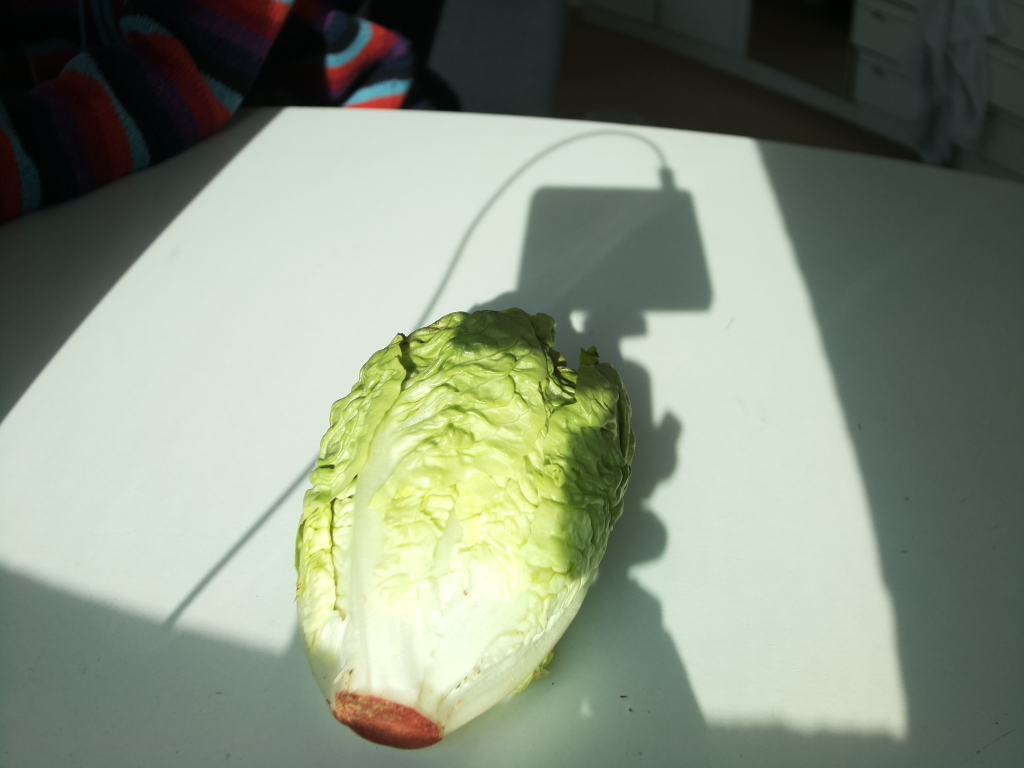salad: (289, 305, 636, 752)
